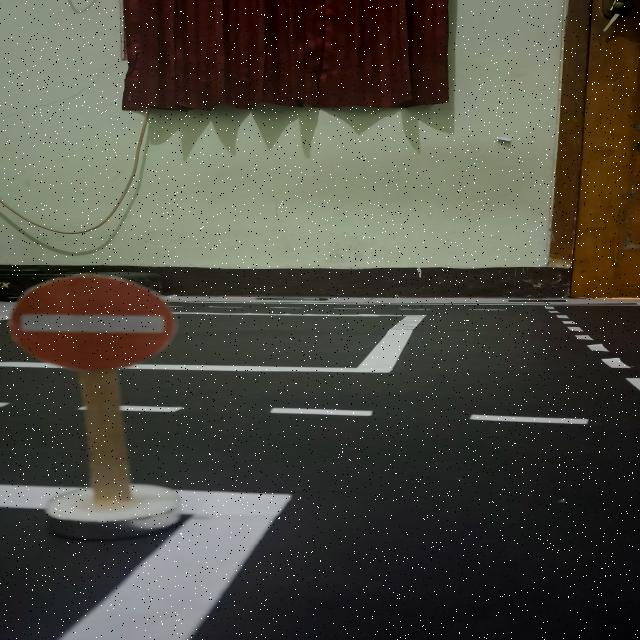Dilarang Masuk: (11, 274, 176, 370)
